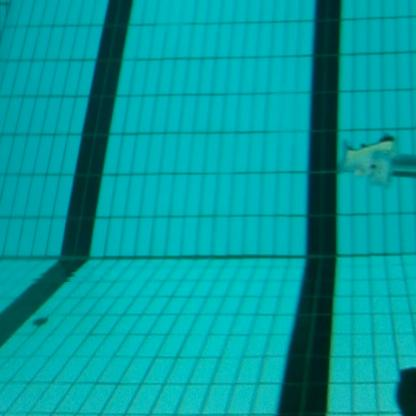tail: (336, 131, 400, 190)
